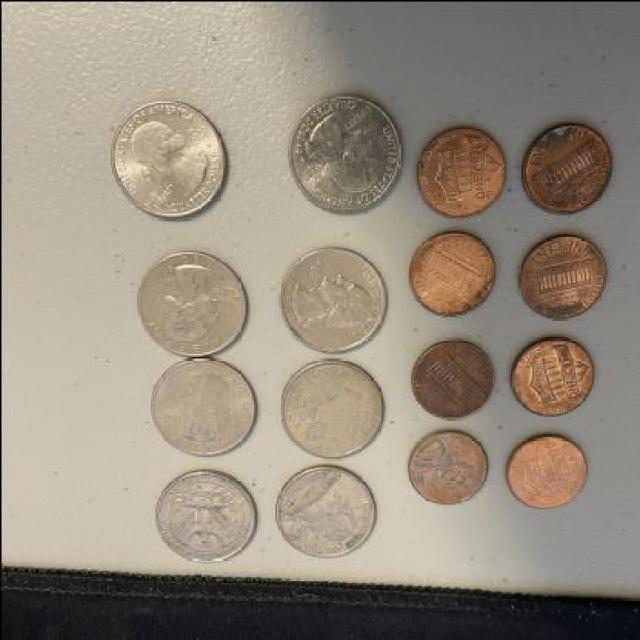Penny: (415, 124, 508, 220), (518, 124, 614, 216), (408, 228, 497, 317), (509, 332, 597, 417), (410, 336, 496, 422), (520, 236, 606, 322), (504, 431, 588, 511), (406, 430, 489, 508)
Quarter: (109, 95, 226, 217), (288, 96, 400, 216), (278, 246, 386, 354), (136, 251, 247, 355), (278, 356, 384, 462), (149, 357, 257, 457), (149, 472, 257, 565), (274, 464, 376, 560)
